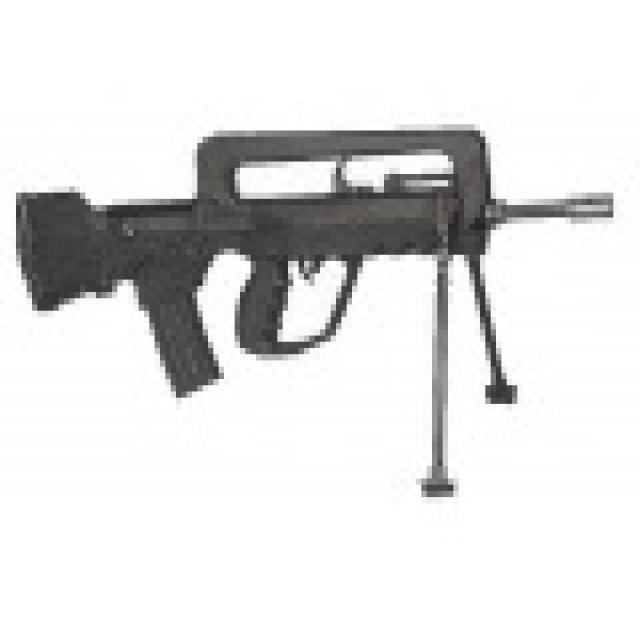Gun: (0, 93, 632, 529)
